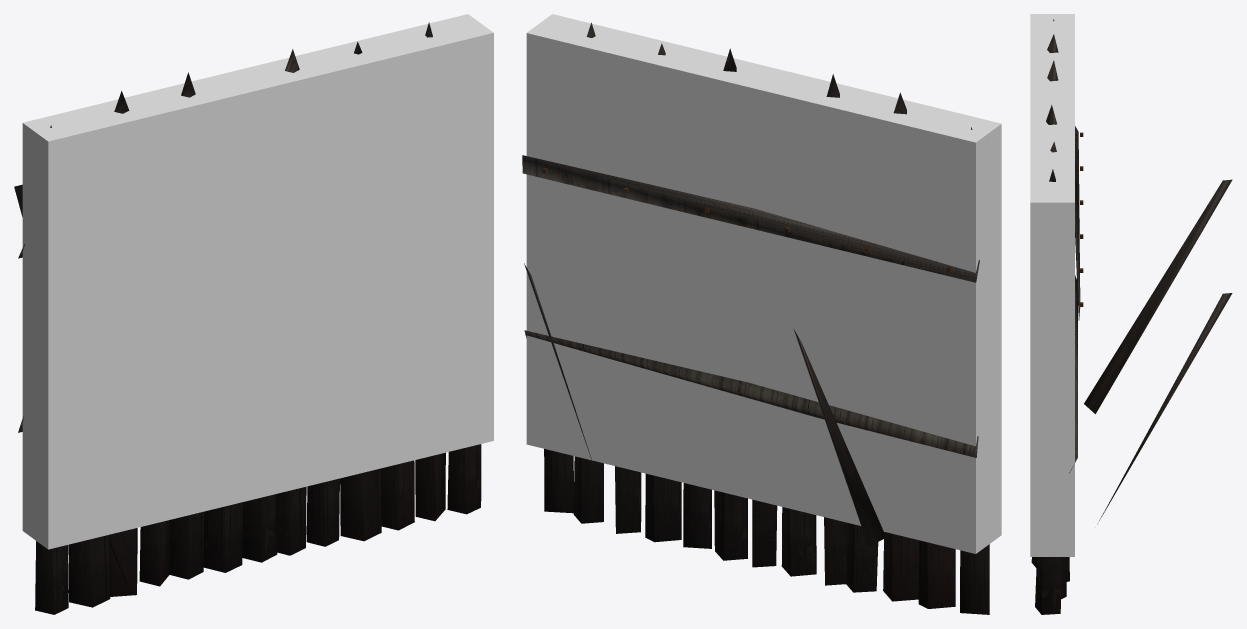
Rendered from seg_palisade_4m_shared_tex.glb.
3 views of the same model, side by side, from view 1: azimuth 30°, elevation 25°; view 2: azimuth 150°, elevation 25°; view 3: azimuth 270°, elevation 25° (orthographic). The views are drawn at different scales.
Visible parts, largest first — view 1: col_palisade, pal_stakes; view 2: col_palisade, pal_stakes, pal_rails; view 3: col_palisade, pal_rails, pal_stakes.
Part boxes in pixels (box(x1,y1,x2,y2)): col_palisade: box(22, 14, 493, 549); pal_stakes: box(35, 22, 481, 614); col_palisade: box(526, 14, 1001, 553); pal_stakes: box(544, 22, 989, 614); pal_rails: box(522, 155, 979, 546); col_palisade: box(1030, 14, 1074, 556); pal_rails: box(1069, 126, 1232, 524); pal_stakes: box(1031, 19, 1069, 614).
Bounding box in the file's own units: 4.04 × 4.29 × 1.81.
Materials: 3 (3 with a texture image).
